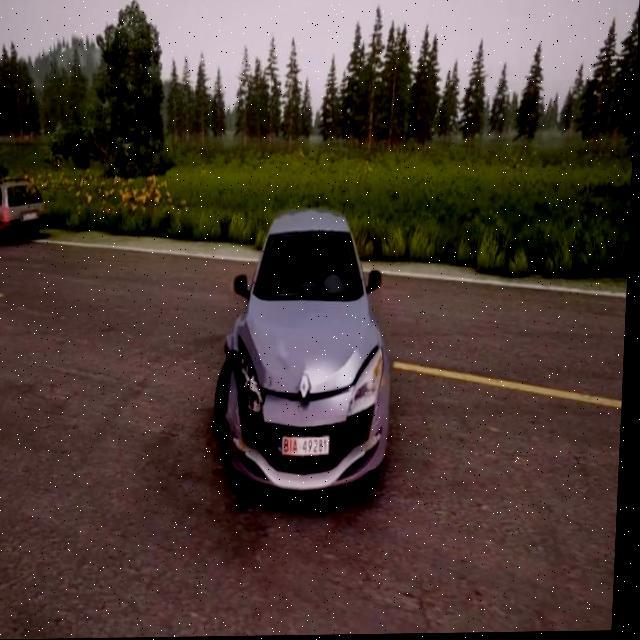single accident: (161, 174, 440, 539)
